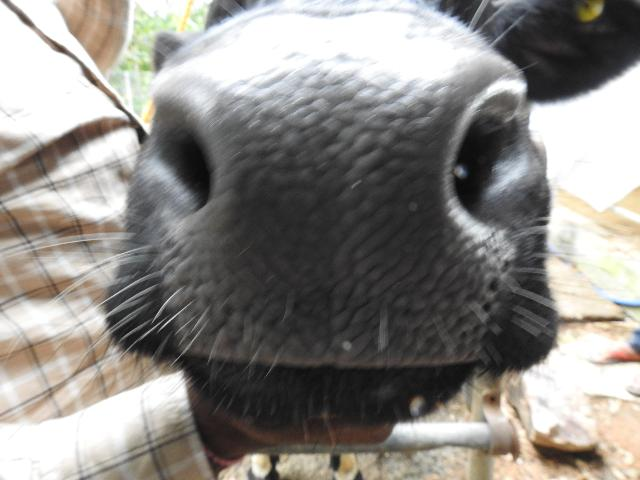Muzzle: (202, 52, 448, 340)
